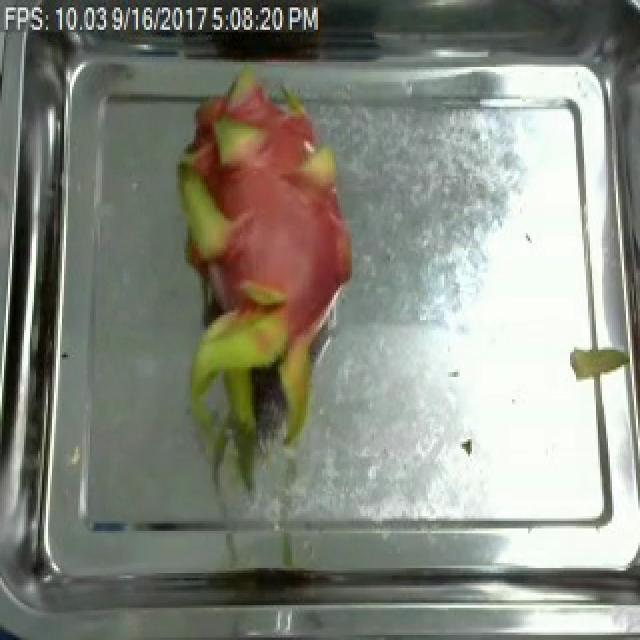fruit: (142, 72, 376, 499)
